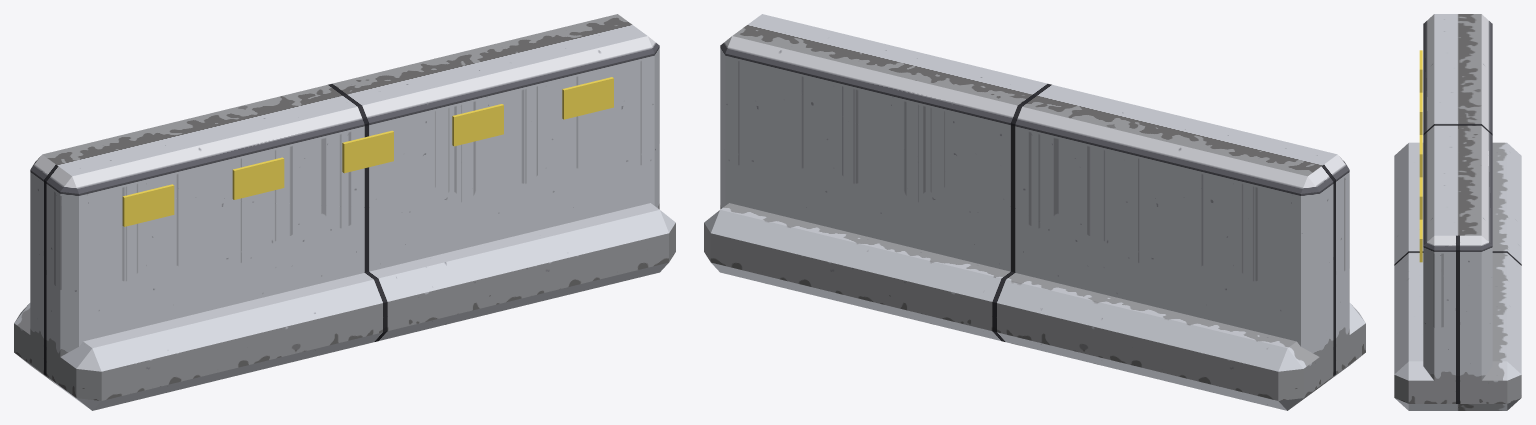
The model's file is concrete_barrier.glb.
3 renders of one model, left to right at view 1: azimuth 30°, elevation 25°; view 2: azimuth 150°, elevation 25°; view 3: azimuth 270°, elevation 25°, orthographic. The views are drawn at different scales.
Parts seen in each view (by area): view 1: harbor_concrete_barrier; view 2: harbor_concrete_barrier; view 3: harbor_concrete_barrier.
Part boxes in pixels (x1,y1,x2,y2): harbor_concrete_barrier: (14, 14, 675, 410); harbor_concrete_barrier: (704, 14, 1365, 410); harbor_concrete_barrier: (1394, 14, 1521, 410).
Size of the model in its own units: 3 by 1.07 by 0.7.
2 materials, 1 textured.
